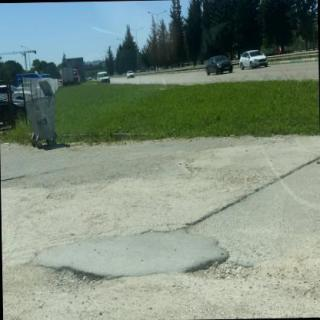pothole: (30, 266, 104, 293), (178, 259, 255, 282)
